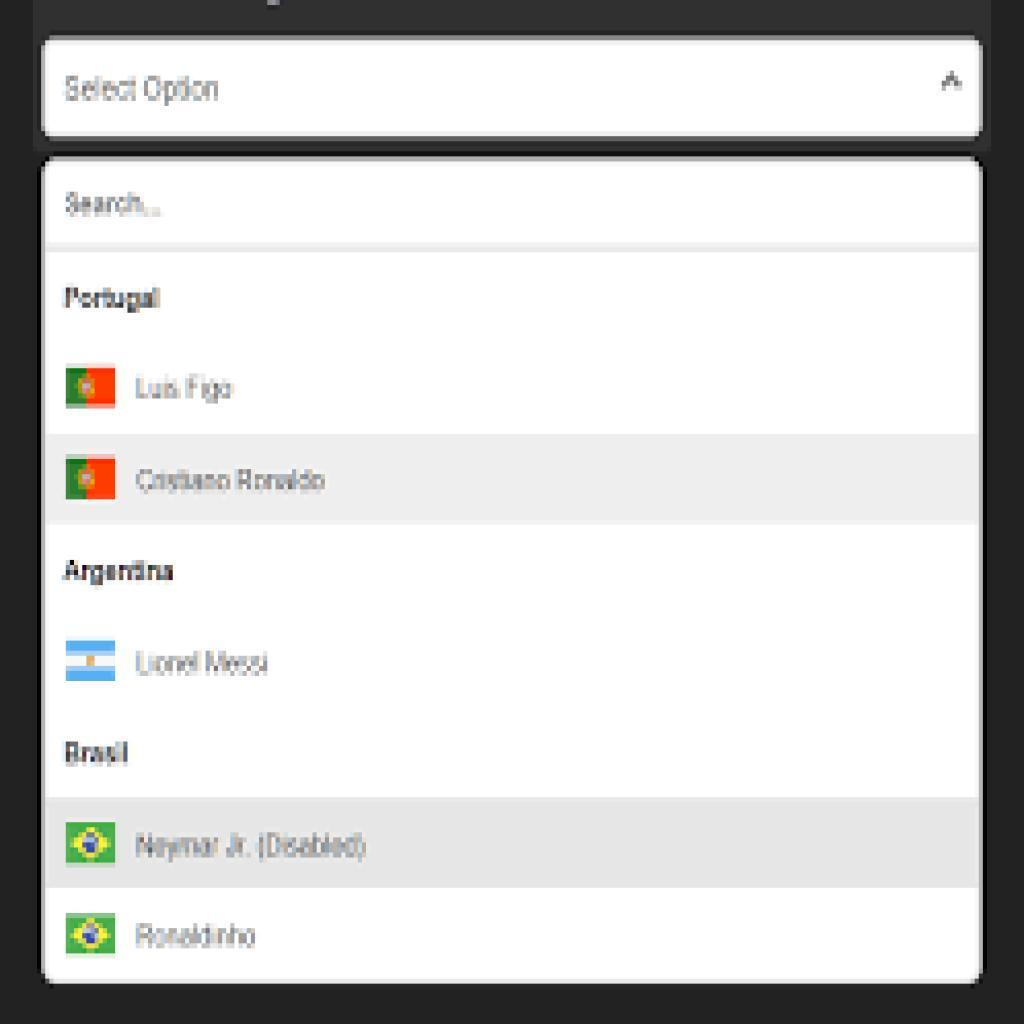dropdown: (47, 35, 985, 135)
